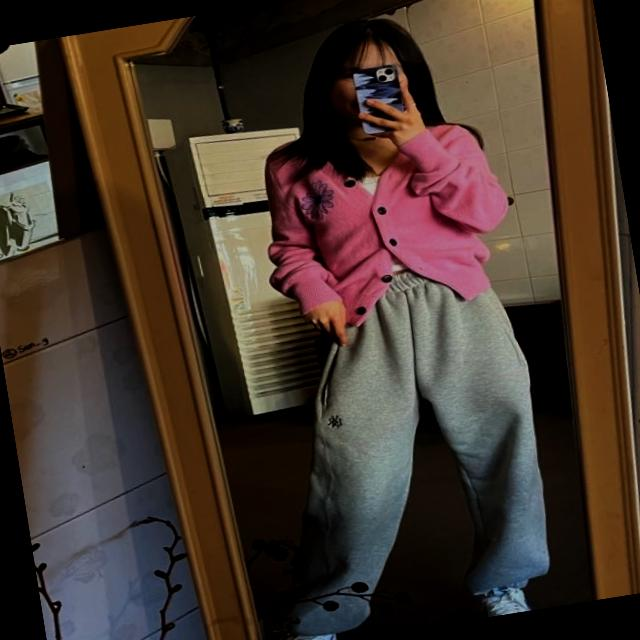cardigan: (243, 106, 522, 348)
trainingpants: (237, 256, 557, 640)
